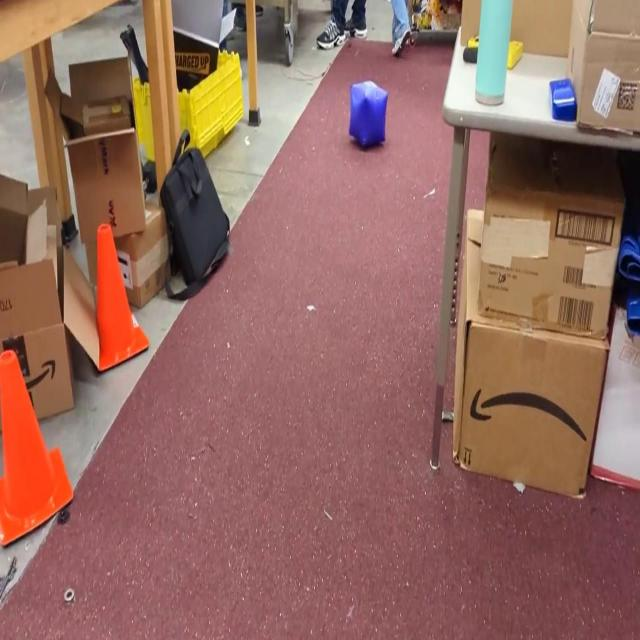frc_cube: (346, 79, 391, 151)
